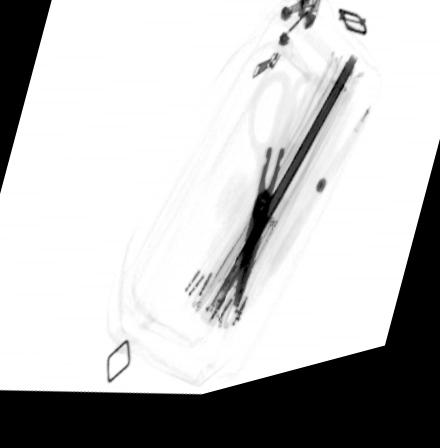Scissors: (231, 84, 321, 323)
